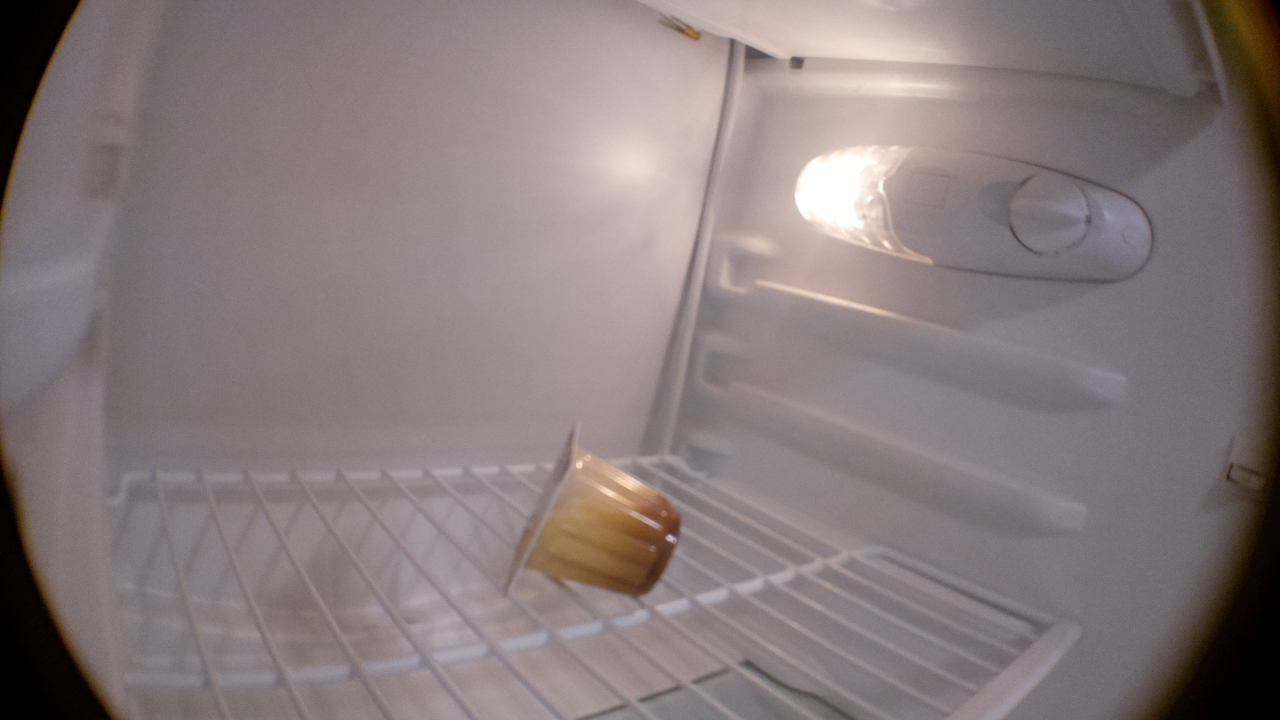caramel: (503, 417, 682, 601)
